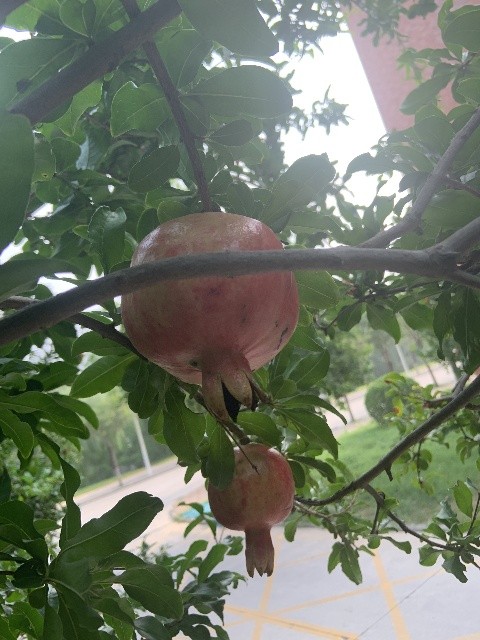ripe: (121, 210, 299, 418), (207, 443, 295, 577)
